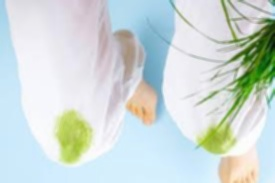earth: (57, 111, 92, 162), (204, 131, 232, 152)
